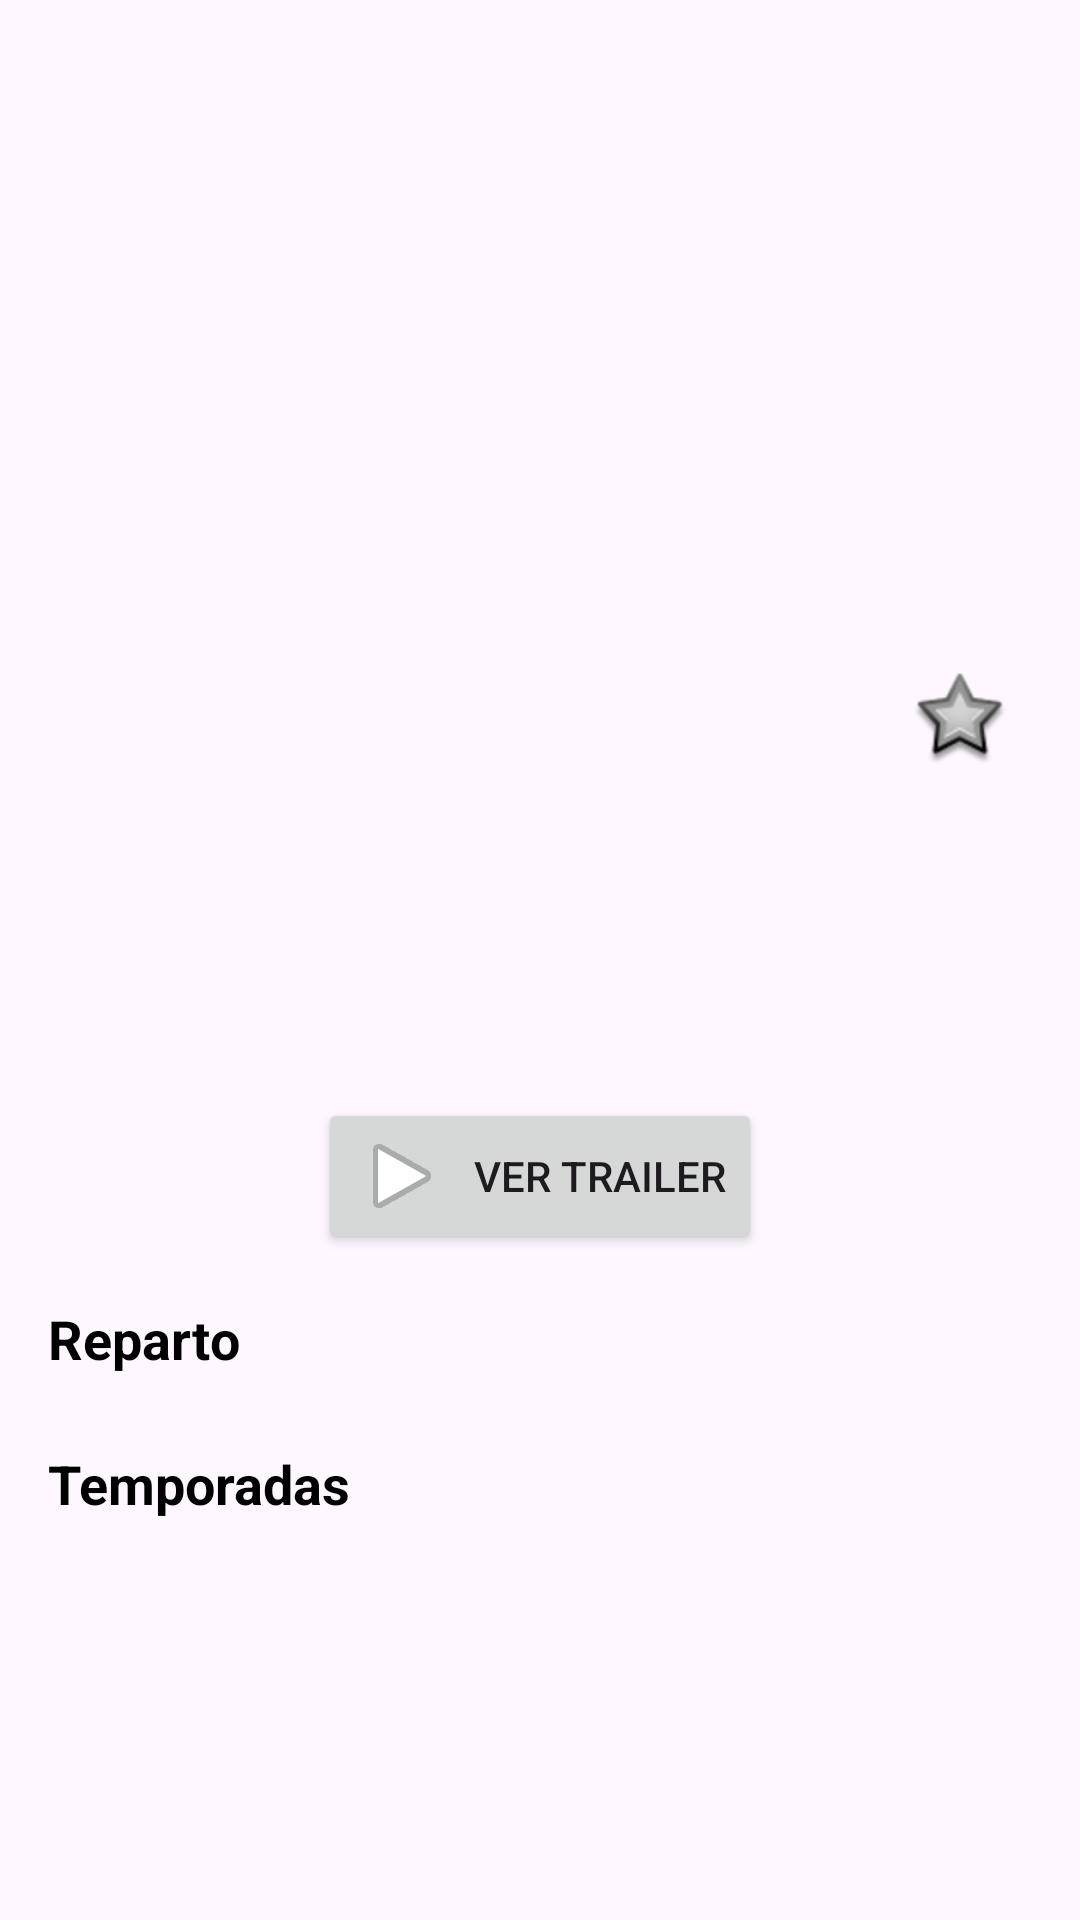

Icon click points for this 1080w x 1920h phone screenshot, format (x=x, y=y):
star off: (x=960, y=716)
